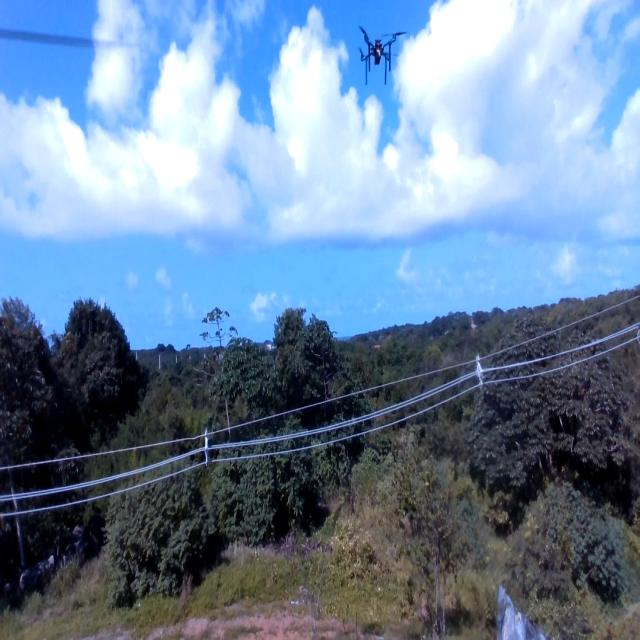-uav-: (348, 16, 412, 88)
